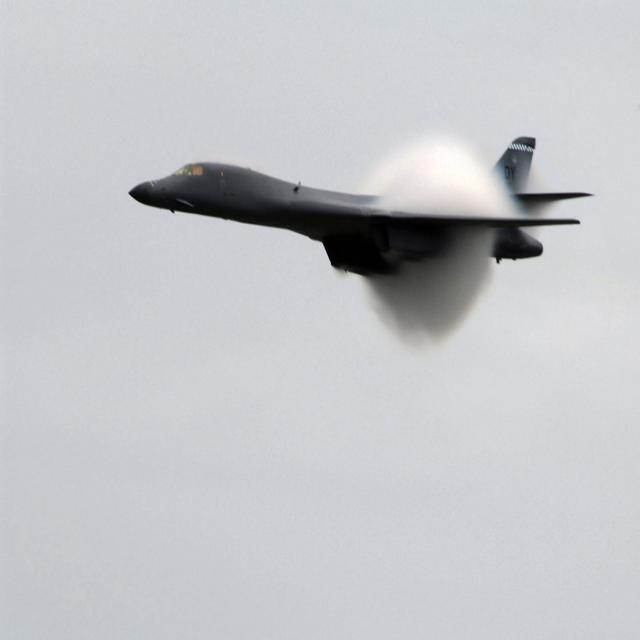MIL_Plane: (128, 162, 595, 238)
